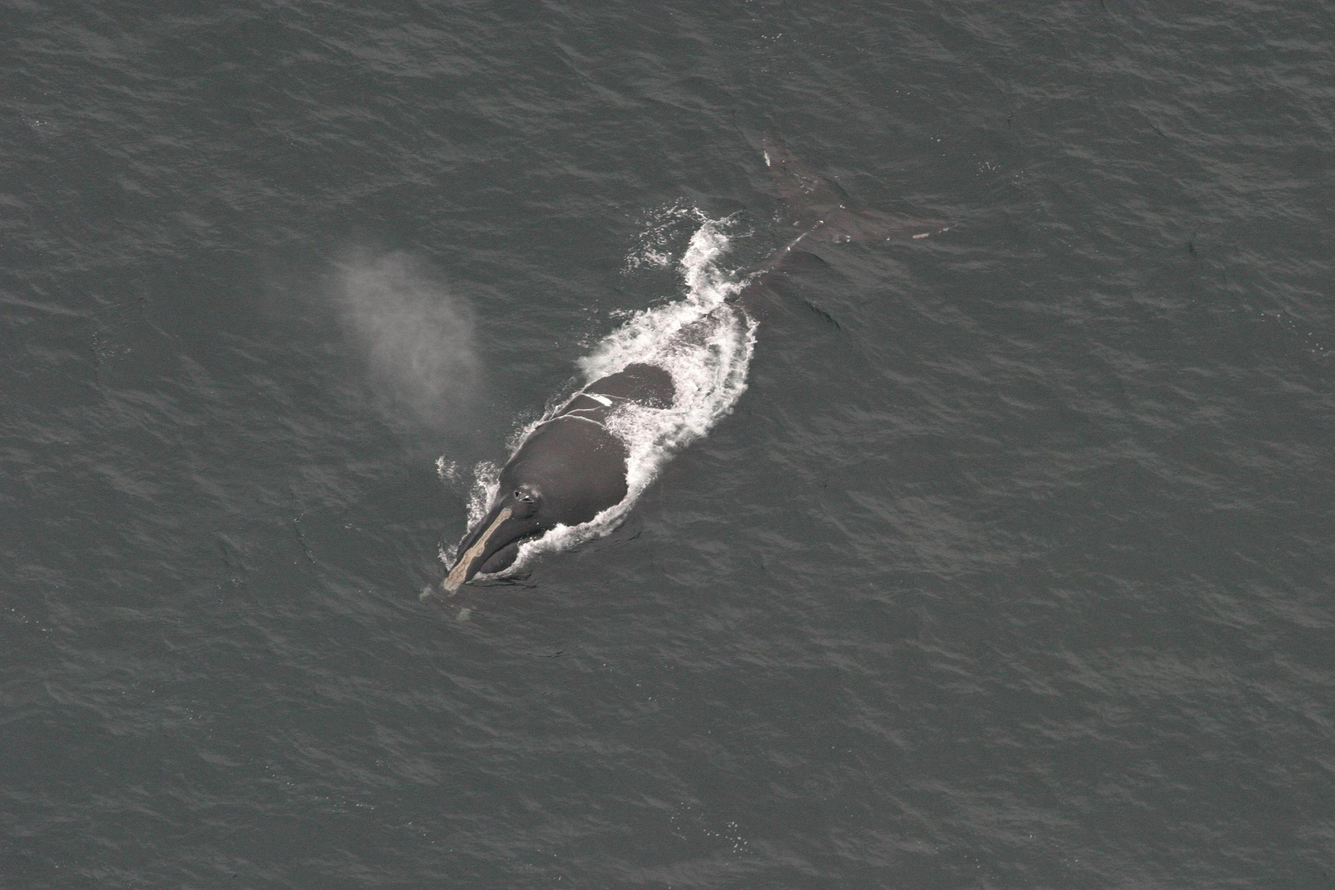whale: (415, 119, 961, 630)
